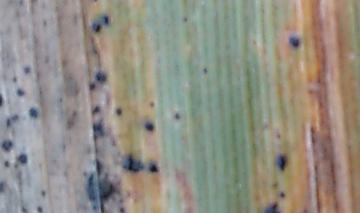tarspot: (82, 171, 116, 213), (120, 153, 146, 173), (90, 117, 105, 138), (275, 152, 290, 172), (91, 158, 106, 177), (262, 199, 282, 213), (286, 34, 301, 49), (92, 70, 108, 84), (146, 161, 160, 174), (15, 24, 26, 39), (1, 139, 13, 152), (143, 120, 155, 133), (80, 14, 89, 31), (16, 152, 28, 164), (100, 13, 112, 25), (89, 104, 101, 116), (91, 20, 102, 32), (108, 134, 118, 147), (103, 92, 113, 105), (28, 107, 39, 118), (87, 81, 98, 92), (15, 171, 23, 186), (308, 132, 317, 145), (30, 33, 40, 44), (70, 12, 78, 25), (88, 35, 97, 46), (33, 70, 41, 82), (90, 46, 100, 55), (65, 118, 74, 128), (113, 106, 122, 116), (172, 111, 181, 121), (311, 163, 320, 173), (300, 205, 311, 213), (85, 143, 92, 155), (22, 65, 31, 74), (92, 145, 101, 154), (278, 190, 287, 199), (270, 179, 279, 188), (1, 178, 6, 194), (11, 113, 21, 121), (15, 88, 25, 96), (91, 132, 99, 142), (147, 99, 155, 109), (39, 189, 47, 198), (35, 204, 43, 213), (274, 131, 282, 140), (308, 124, 316, 133), (4, 117, 11, 127), (41, 18, 48, 28), (1, 72, 8, 82), (21, 205, 29, 213), (42, 55, 50, 63), (59, 59, 67, 67), (201, 66, 209, 74), (61, 170, 69, 178), (11, 162, 20, 169), (91, 203, 98, 212), (71, 109, 78, 117), (306, 87, 314, 94), (124, 190, 132, 197), (315, 75, 321, 84), (118, 206, 125, 213), (321, 146, 328, 153), (250, 39, 257, 46), (3, 160, 9, 168), (1, 93, 4, 109), (11, 75, 17, 83), (36, 161, 42, 169), (14, 9, 20, 17), (57, 95, 63, 102), (37, 88, 43, 95), (181, 16, 188, 22), (61, 143, 67, 150), (53, 5, 60, 11), (16, 1, 25, 5), (118, 197, 124, 203), (313, 175, 319, 181), (132, 197, 138, 202), (90, 1, 100, 3)
